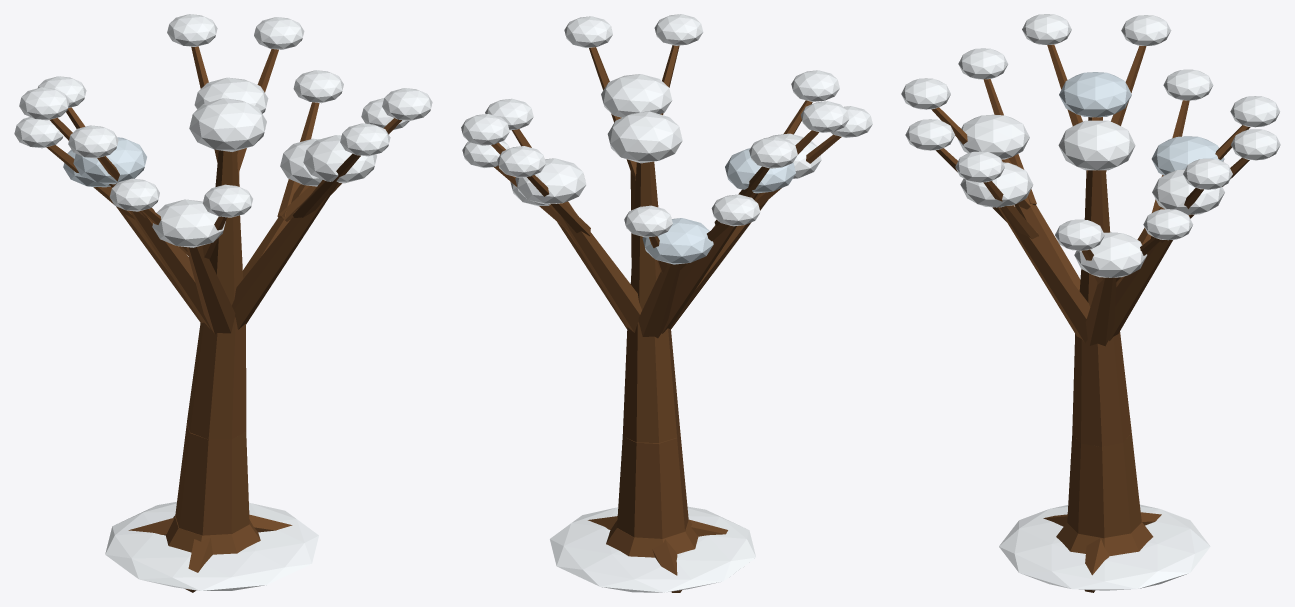
File: tree-winter.glb
The picture shows the model from 3 angles, left to right: view 1: azimuth 30°, elevation 25°; view 2: azimuth 150°, elevation 25°; view 3: azimuth 270°, elevation 25°; orthographic projection. The views are drawn at different scales.
Visible parts, largest first — view 1: Winter_Crown, Winter_Trunk; view 2: Winter_Crown, Winter_Trunk; view 3: Winter_Crown, Winter_Trunk.
Part boxes in pixels (<box>): Winter_Crown: <box>14,14,432,590</box>; Winter_Trunk: <box>46,46,401,592</box>; Winter_Crown: <box>461,14,872,592</box>; Winter_Trunk: <box>491,45,841,592</box>; Winter_Crown: <box>901,14,1280,590</box>; Winter_Trunk: <box>931,44,1250,592</box>.
Bounding box in the file's own units: 2.05 × 2.7 × 1.97.
